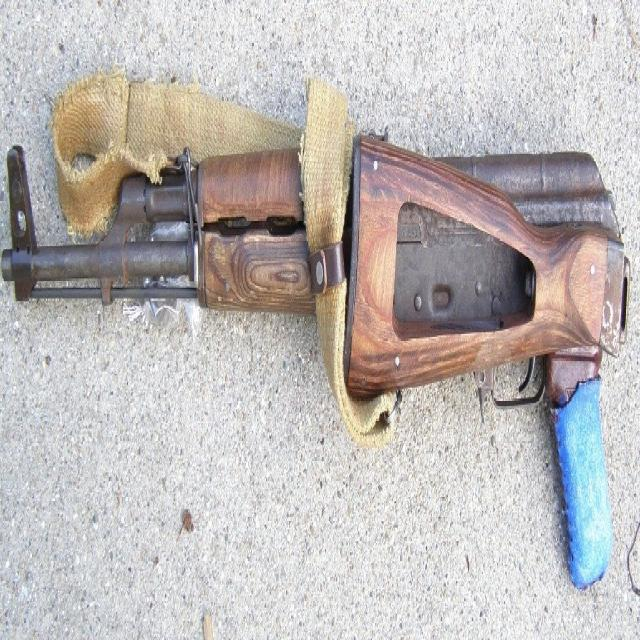ak: (1, 100, 632, 606)
